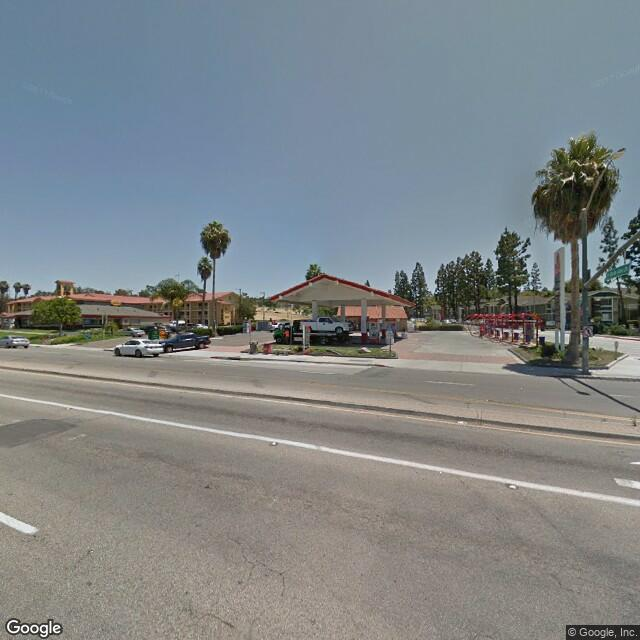litter: (455, 418, 469, 425)
